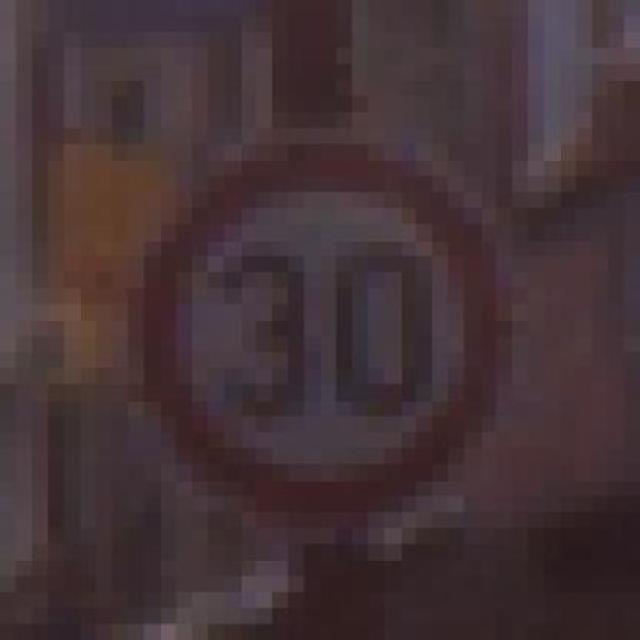Speed Limit 30 KMPh: (80, 112, 560, 560)
